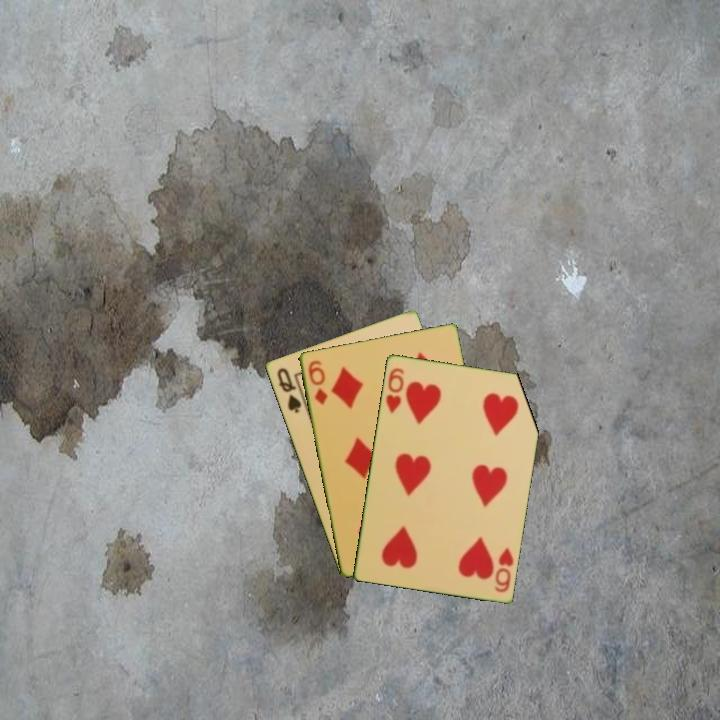6d: (304, 356, 330, 407)
6h: (382, 364, 407, 416), (491, 544, 516, 595)
Qs: (273, 364, 304, 416)
